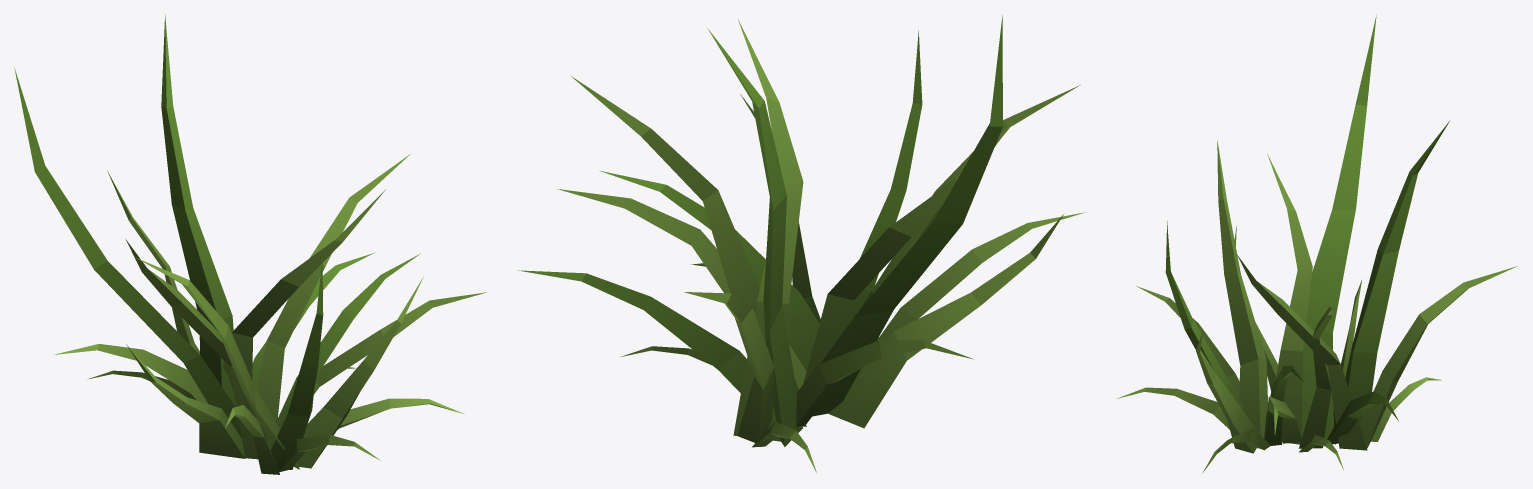
The model's file is Cavern_Grass-01.fbx.
The picture shows the model from 3 angles, left to right: view 1: azimuth 30°, elevation 25°; view 2: azimuth 150°, elevation 25°; view 3: azimuth 270°, elevation 25°; orthographic projection. The views are drawn at different scales.
Visible parts, largest first — view 1: Cavern_Grass-01; view 2: Cavern_Grass-01; view 3: Cavern_Grass-01.
Part boxes in pixels (<box>): Cavern_Grass-01: <box>14,14,486,474</box>; Cavern_Grass-01: <box>518,15,1085,472</box>; Cavern_Grass-01: <box>1116,15,1517,473</box>.
Size of the model in its own units: 155 by 140 by 149.
Materials: 1 (1 with a texture image).
